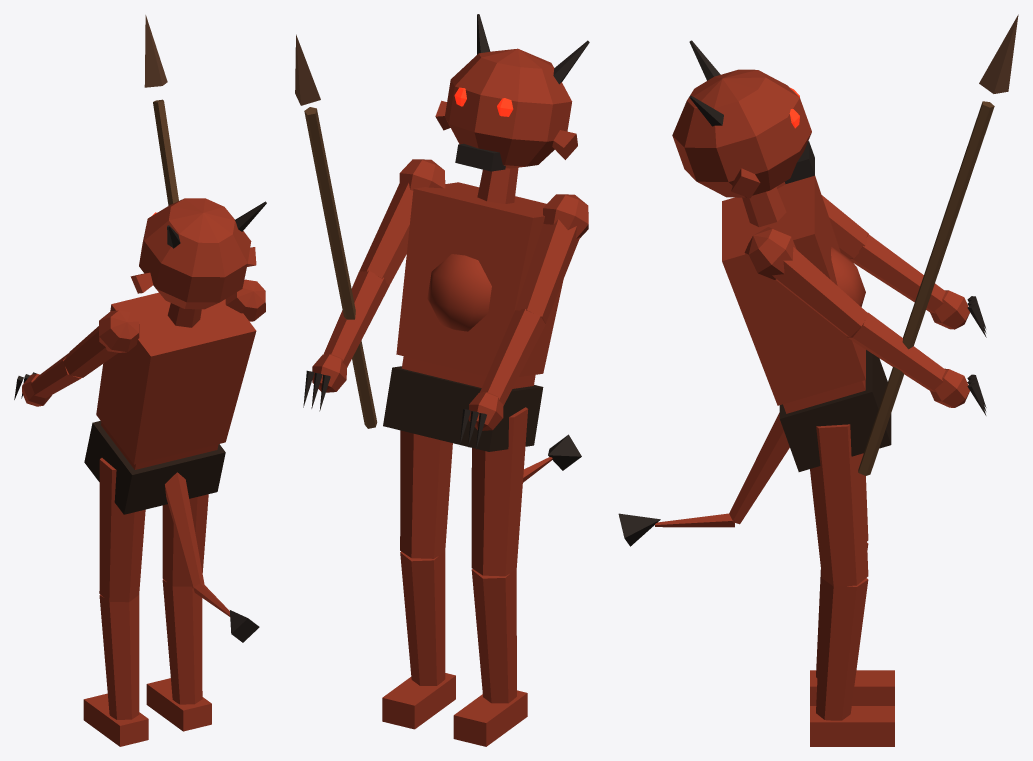
File: imp.glb
The picture shows the model from 3 angles, left to right: view 1: azimuth 30°, elevation 25°; view 2: azimuth 150°, elevation 25°; view 3: azimuth 270°, elevation 25°; orthographic projection. The views are drawn at different scales.
Parts seen in each view (by area): view 1: torso, head, leg_l, leg_r, arm_l, weapon, arm_r; view 2: torso, head, leg_l, leg_r, arm_l, arm_r, weapon; view 3: torso, leg_r, head, arm_r, weapon, arm_l, leg_l.
Boxes of the visible parts, left/top/right/bottom form: torso: left=84, top=292, right=259, bottom=642; head: left=130, top=198, right=266, bottom=327; leg_l: left=83, top=458, right=148, bottom=746; leg_r: left=146, top=494, right=211, bottom=731; arm_l: left=14, top=310, right=139, bottom=406; weapon: left=144, top=15, right=178, bottom=205; arm_r: left=225, top=279, right=265, bottom=321; torso: left=383, top=182, right=581, bottom=482; head: left=435, top=14, right=589, bottom=203; leg_l: left=453, top=407, right=528, bottom=746; leg_r: left=382, top=430, right=455, bottom=729; arm_l: left=460, top=194, right=588, bottom=449; arm_r: left=303, top=159, right=445, bottom=411; weapon: left=295, top=34, right=377, bottom=428; torso: left=618, top=175, right=891, bottom=546; leg_r: left=810, top=424, right=894, bottom=746; head: left=672, top=40, right=814, bottom=227; arm_r: left=744, top=226, right=986, bottom=415; weapon: left=858, top=14, right=1018, bottom=475; arm_l: left=776, top=182, right=986, bottom=337; leg_l: left=810, top=475, right=894, bottom=705.
Size of the model in its own units: 0.3712 by 1.36 by 0.6617.
